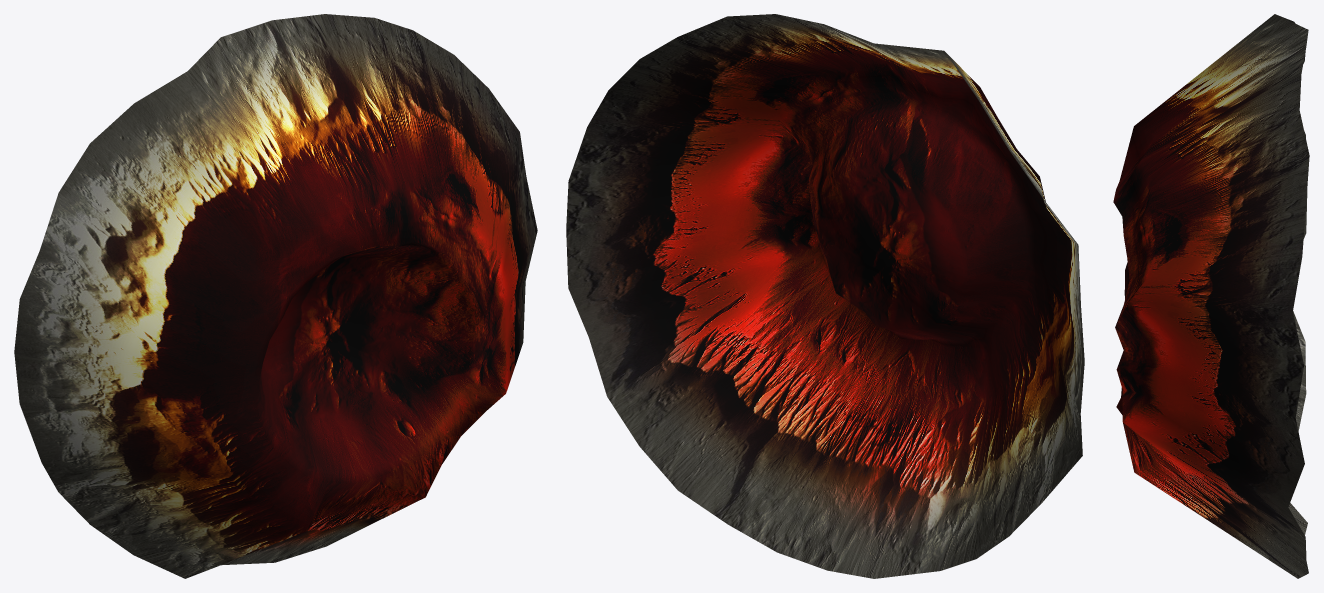
File: outer_lava.fbx
3 renders of one model, left to right at view 1: azimuth 30°, elevation 25°; view 2: azimuth 150°, elevation 25°; view 3: azimuth 270°, elevation 25°, orthographic. The views are drawn at different scales.
Visible parts, largest first — view 1: Circle_020; view 2: Circle_020; view 3: Circle_020.
Part boxes in pixels (<box>): Circle_020: <box>14,14,537,578</box>; Circle_020: <box>566,14,1084,578</box>; Circle_020: <box>1113,14,1309,578</box>.
Bounding box in the file's own units: 337 × 336 × 118.
Materials: 1 (1 with a texture image).
